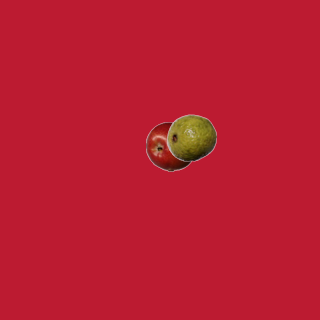Apple Braeburn: (145, 121, 195, 171)
Guava: (166, 112, 216, 162)
